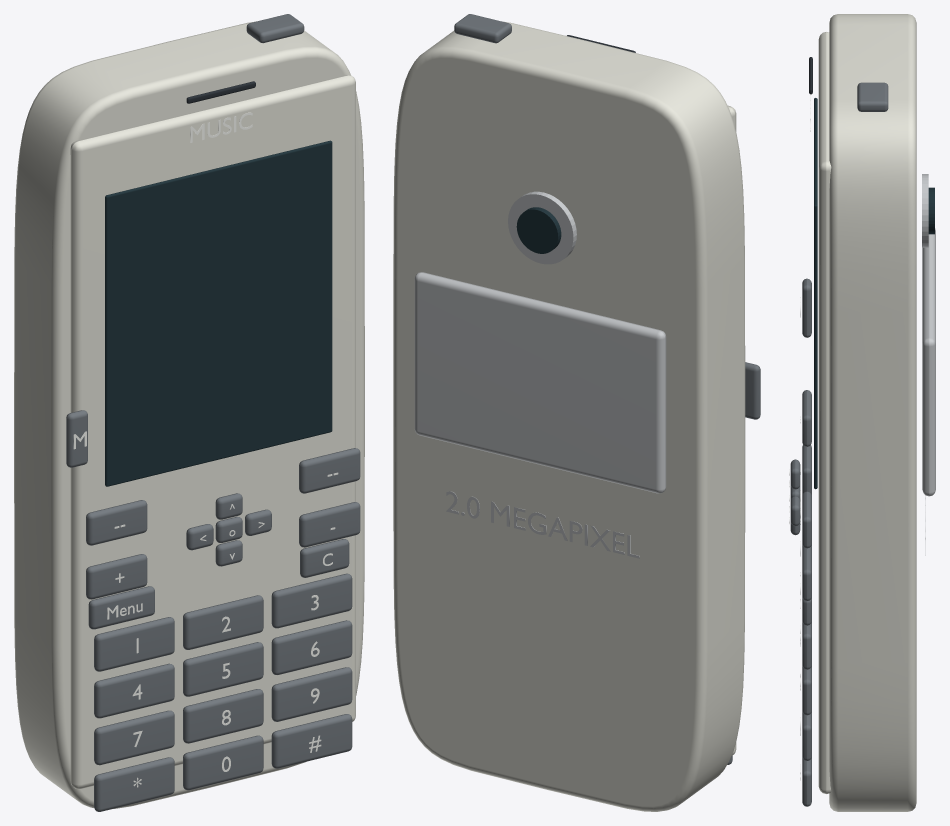
Rendered from walkman-collection.glb.
3 views of the same model, side by side, from view 1: azimuth 30°, elevation 25°; view 2: azimuth 150°, elevation 25°; view 3: azimuth 270°, elevation 25° (orthographic). The views are drawn at different scales.
Visible parts, largest first — view 1: Front_alloy, Display_glass, Camera_phone_shell, Key_digit:3, Key_digit:1, Key_digit:*, Key_digit:9, Key_digit:6, Key_digit:#, Key_digit:7, Key_digit:4, Key_digit:5 (+11 smaller); view 2: Camera_phone_shell, Sliding_camera_cover, Rear_camera_ring, Rear_brand, Rear_lens, Power, Key_music; view 3: Camera_phone_shell, Front_alloy, Sliding_camera_cover, Display_glass, Power, Key_music, Key_soft:left, Key_soft:right, Key_end, Rear_camera_ring, Key_contacts, Key_digit:9 (+6 smaller).
Part boxes in pixels (bbox=[...]): Front_alloy: bbox=[70, 75, 355, 788]; Display_glass: bbox=[105, 140, 332, 486]; Camera_phone_shell: bbox=[14, 21, 364, 808]; Key_digit:3: bbox=[271, 573, 352, 628]; Key_digit:1: bbox=[94, 617, 174, 671]; Key_digit:*: bbox=[94, 757, 174, 811]; Key_digit:9: bbox=[271, 667, 352, 721]; Key_digit:6: bbox=[271, 620, 352, 674]; Key_digit:#: bbox=[271, 714, 352, 768]; Key_digit:7: bbox=[94, 710, 174, 765]; Key_digit:4: bbox=[94, 663, 174, 718]; Key_digit:5: bbox=[183, 642, 263, 696]; Camera_phone_shell: bbox=[393, 21, 745, 811]; Sliding_camera_cover: bbox=[414, 272, 666, 493]; Rear_camera_ring: bbox=[508, 191, 576, 264]; Rear_brand: bbox=[446, 491, 639, 558]; Rear_lens: bbox=[516, 207, 561, 253]; Power: bbox=[454, 14, 511, 43]; Key_music: bbox=[745, 362, 760, 419]; Camera_phone_shell: bbox=[829, 14, 916, 811]; Front_alloy: bbox=[818, 32, 831, 793]; Sliding_camera_cover: bbox=[922, 228, 935, 496]; Display_glass: bbox=[814, 98, 817, 489]; Power: bbox=[857, 82, 888, 111]; Key_music: bbox=[802, 278, 811, 337]; Key_soft:left: bbox=[802, 390, 811, 446]; Key_soft:right: bbox=[802, 491, 811, 548]; Key_end: bbox=[802, 546, 811, 600]; Rear_camera_ring: bbox=[922, 174, 928, 247]; Key_contacts: bbox=[802, 445, 811, 494]; Key_digit:9: bbox=[802, 711, 811, 760].
Bounding box in the file's own units: 1.82 × 4.06 × 0.758.
